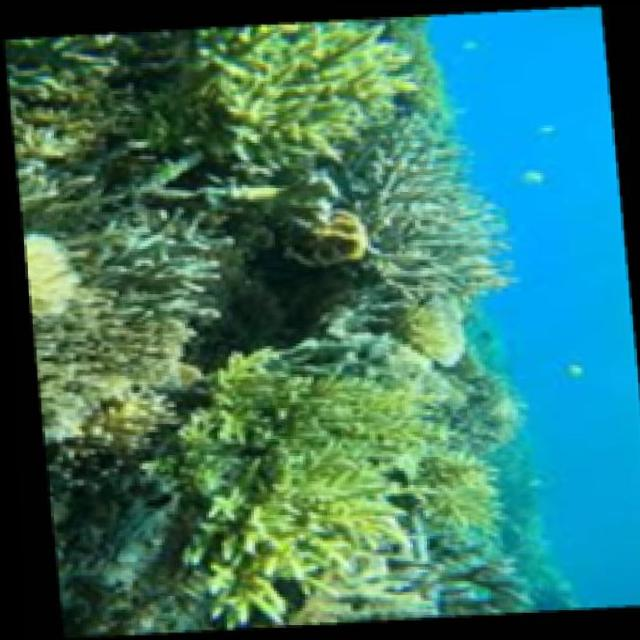Dead Coral: (44, 440, 174, 612)
